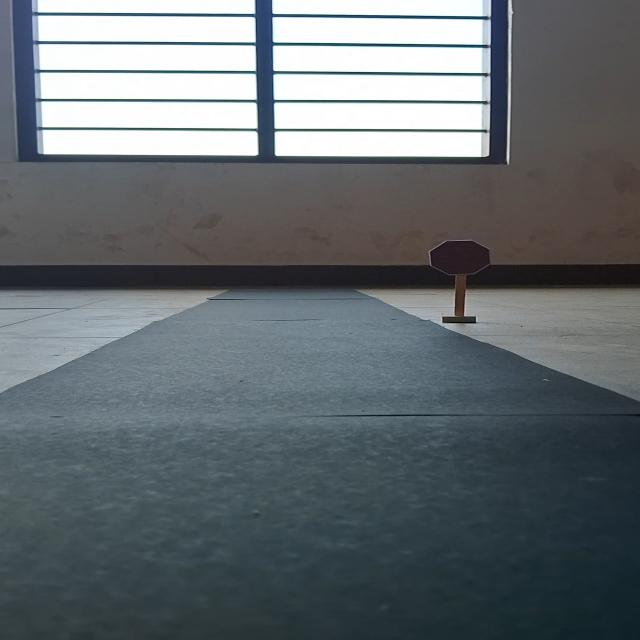Stop: (428, 240, 492, 277)
